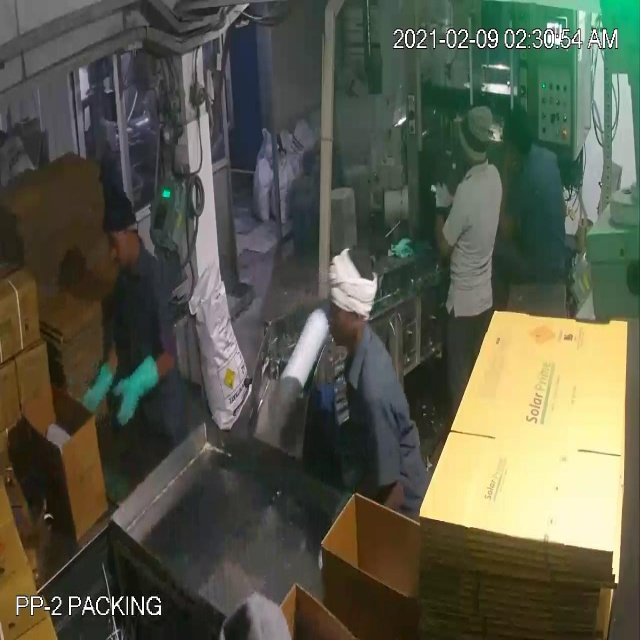Guantes: (108, 360, 166, 434), (66, 356, 123, 415)
Sin_guantes: (428, 184, 461, 260)
